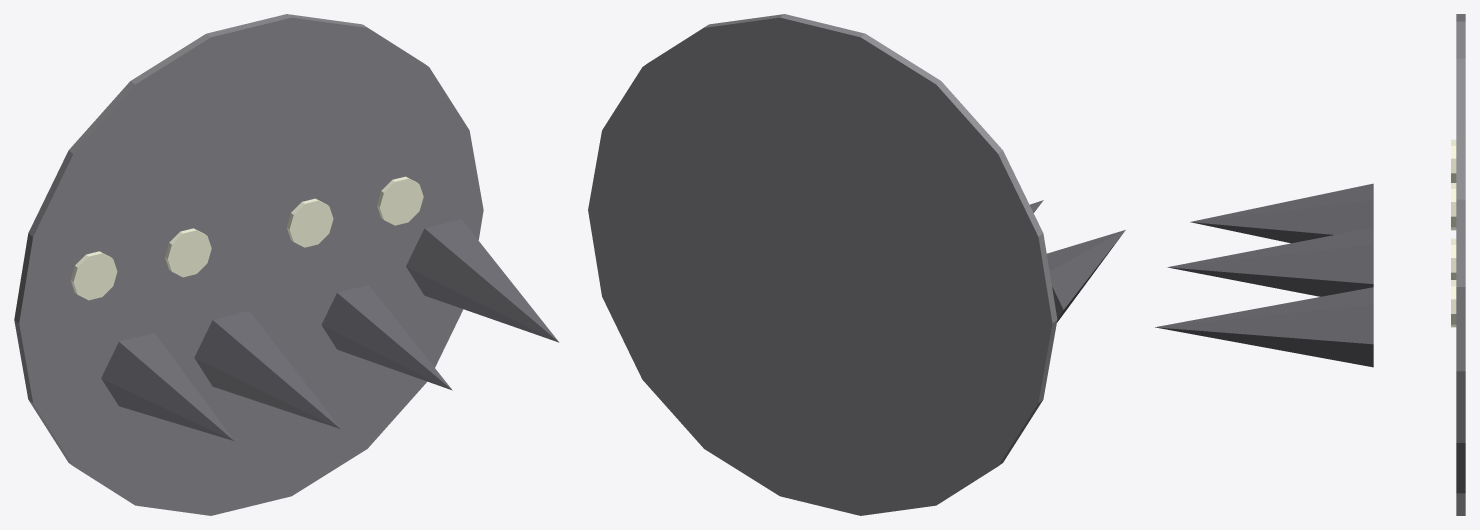
Rendered from 04_event_hazard_cluster.glb.
The picture shows the model from 3 angles, left to right: view 1: azimuth 30°, elevation 25°; view 2: azimuth 150°, elevation 25°; view 3: azimuth 270°, elevation 25°; orthographic projection. The views are drawn at different scales.
Visible parts, largest first — view 1: scatter_base, basalt_shard_3, basalt_shard_1, basalt_shard_0, basalt_shard_2, lava_glow_2, lava_glow_1, lava_glow_3, lava_glow_0; view 2: scatter_base, basalt_shard_0; view 3: basalt_shard_3, basalt_shard_1, basalt_shard_0, scatter_base.
Part boxes in pixels (x1,y1,x2,y2): scatter_base: (14,14,483,515); basalt_shard_3: (406,219,559,342); basalt_shard_1: (194,311,340,428); basalt_shard_0: (101,333,233,440); basalt_shard_2: (321,285,452,390); lava_glow_2: (286,198,333,247); lava_glow_1: (165,228,211,277); lava_glow_3: (377,176,423,225); lava_glow_0: (70,251,117,300); scatter_base: (588,14,1057,515); basalt_shard_0: (1047,230,1125,322); basalt_shard_3: (1155,287,1373,367); basalt_shard_1: (1167,227,1373,296); basalt_shard_0: (1190,183,1373,243); scatter_base: (1456,14,1465,515).
Bounding box in the file's own units: 1.9 × 1.87 × 1.17.
